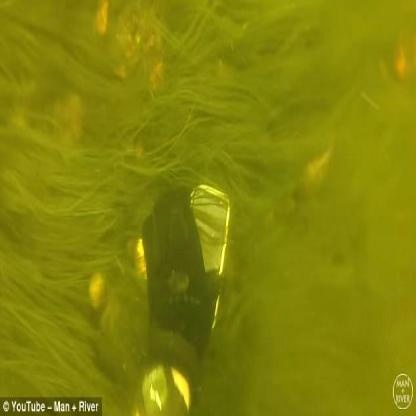cellphone: (188, 170, 230, 344)
